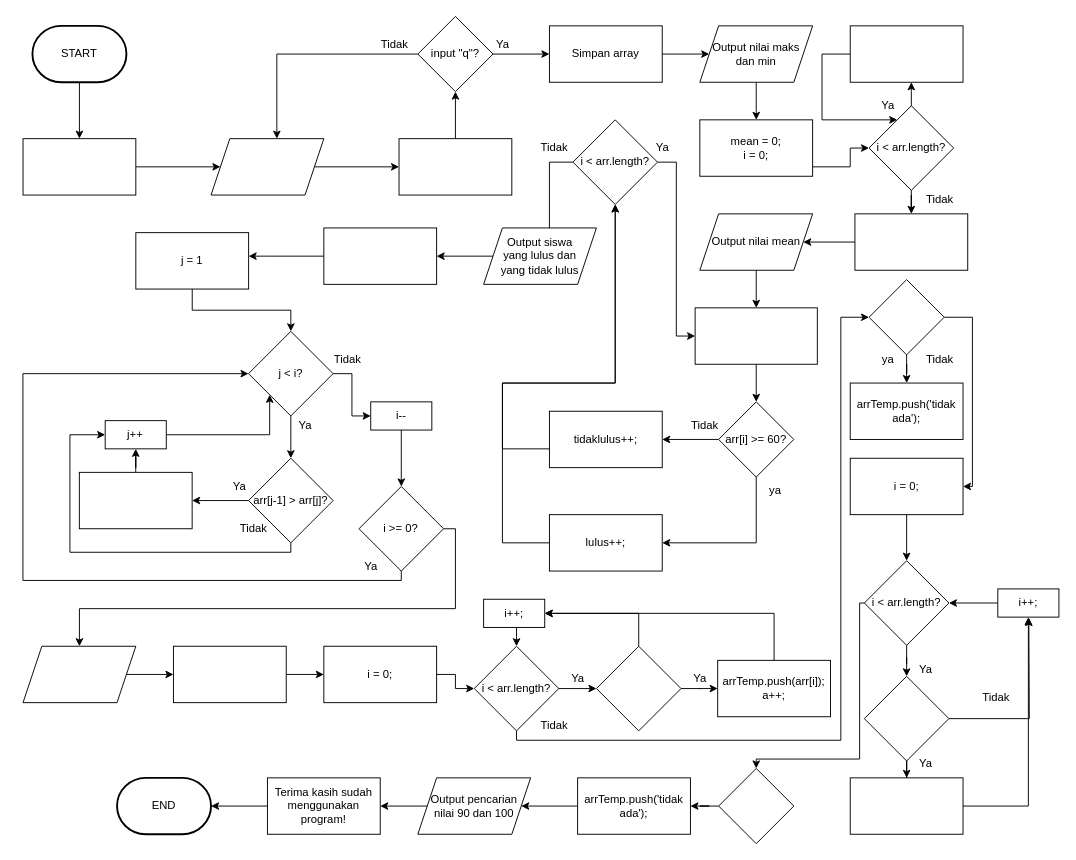
Some shapes in this 1076 by 860 pixel diagram are drawn without their labels. Here are the shapes that lost their labels. From the top down, the centre of each, then its label:
point 906,53: mean = mean + arr[i]; i++;
point 79,166: Selamat datang. Silahkan input nilai.
point 267,166: Input nilai
point 455,166: Input ke array. i++;
point 380,255: i = arr.length
point 911,241: mean = mean / 2;
point 755,335: lulus = 0; tidaklulus = 0;
point 906,317: a == 0?
point 135,500: temp = arr[j-1]; arr[j-1] = arr[j]; arr[j] = temp;
point 79,674: Output array dari yang terkecil ke terbesar
point 229,674: arrTemp = []; a = 0, b = 0;
point 638,688: arr[i] == 90?
point 906,718: arr[i] == 100?
point 756,806: b == 0?
point 906,805: arrTemp.push(arr[i]); b++;
